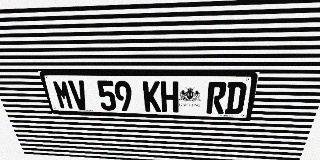5: (96, 80, 117, 111)
9: (113, 81, 133, 111)
D: (224, 82, 247, 114)
H: (160, 81, 178, 112)
K: (142, 81, 161, 112)
M: (52, 80, 75, 109)
R: (206, 82, 227, 114)
V: (68, 80, 90, 110)
